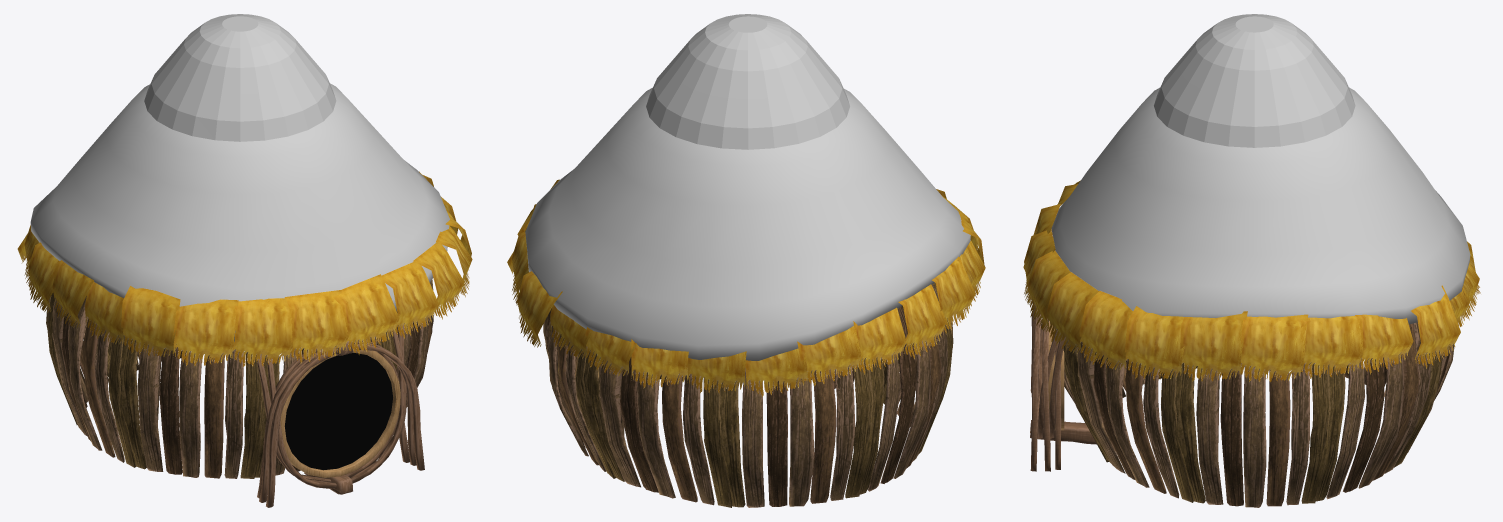
Rendered from SM_hut_rounded_small.fbx.
3 views of the same model, side by side, from view 1: azimuth 30°, elevation 25°; view 2: azimuth 150°, elevation 25°; view 3: azimuth 270°, elevation 25° (orthographic). The views are drawn at different scales.
Visible parts, largest first — view 1: hut_rounded_small; view 2: hut_rounded_small; view 3: hut_rounded_small.
Boxes of the visible parts, x1,y1,x2,y2 form: hut_rounded_small: [17, 14, 472, 507]; hut_rounded_small: [507, 14, 985, 507]; hut_rounded_small: [1023, 14, 1480, 507].
Size of the model in its own units: 795 by 771 by 788.
